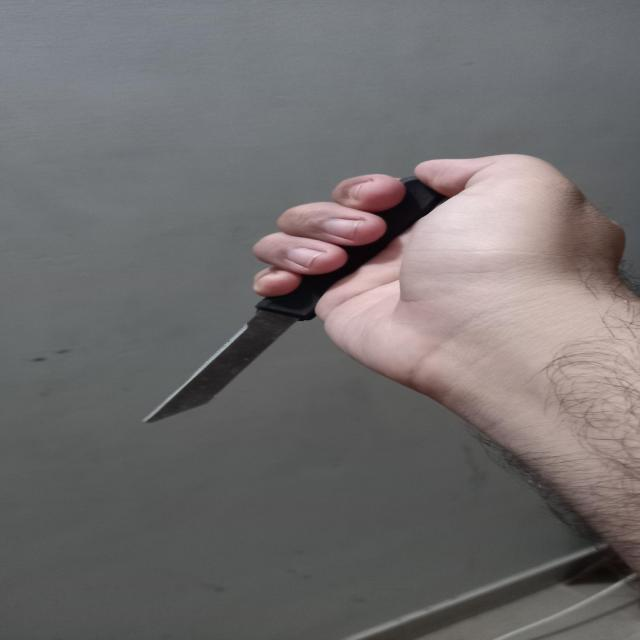Knife: (142, 177, 448, 422)
Person: (255, 153, 640, 595)
